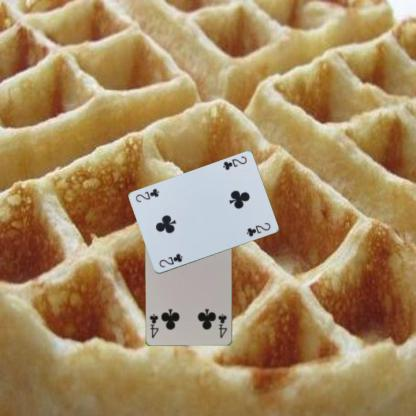2c: (156, 251, 184, 269), (220, 154, 248, 172)
4c: (216, 312, 228, 339)
